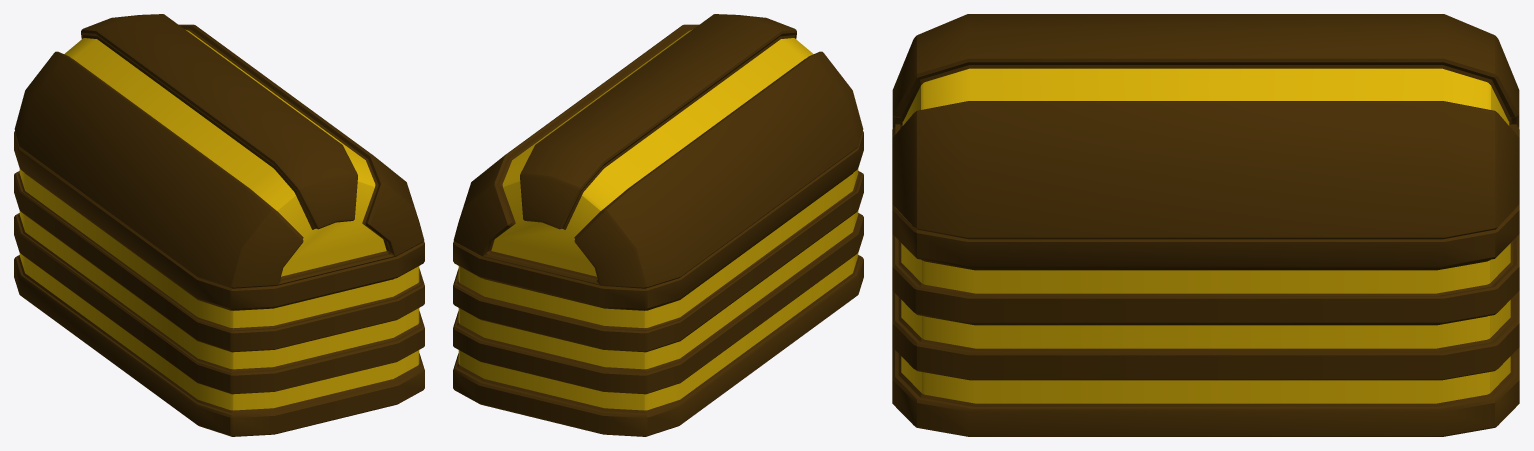
File: Chest_animated.fbx
3 views of the same model, side by side, from view 1: azimuth 30°, elevation 25°; view 2: azimuth 150°, elevation 25°; view 3: azimuth 270°, elevation 25° (orthographic). The views are drawn at different scales.
Visible parts, largest first — view 1: Chest_Top, Chest; view 2: Chest_Top, Chest; view 3: Chest_Top, Chest.
Part boxes in pixels (x1=…): Chest_Top: x1=14, y1=14, x2=424, y2=288; Chest: x1=14, y1=131, x2=424, y2=436; Chest_Top: x1=453, y1=14, x2=863, y2=288; Chest: x1=453, y1=131, x2=863, y2=436; Chest_Top: x1=892, y1=14, x2=1519, y2=239; Chest: x1=892, y1=129, x2=1519, y2=436.
Size of the model in its own units: 1.54 by 2.81 by 1.66.
